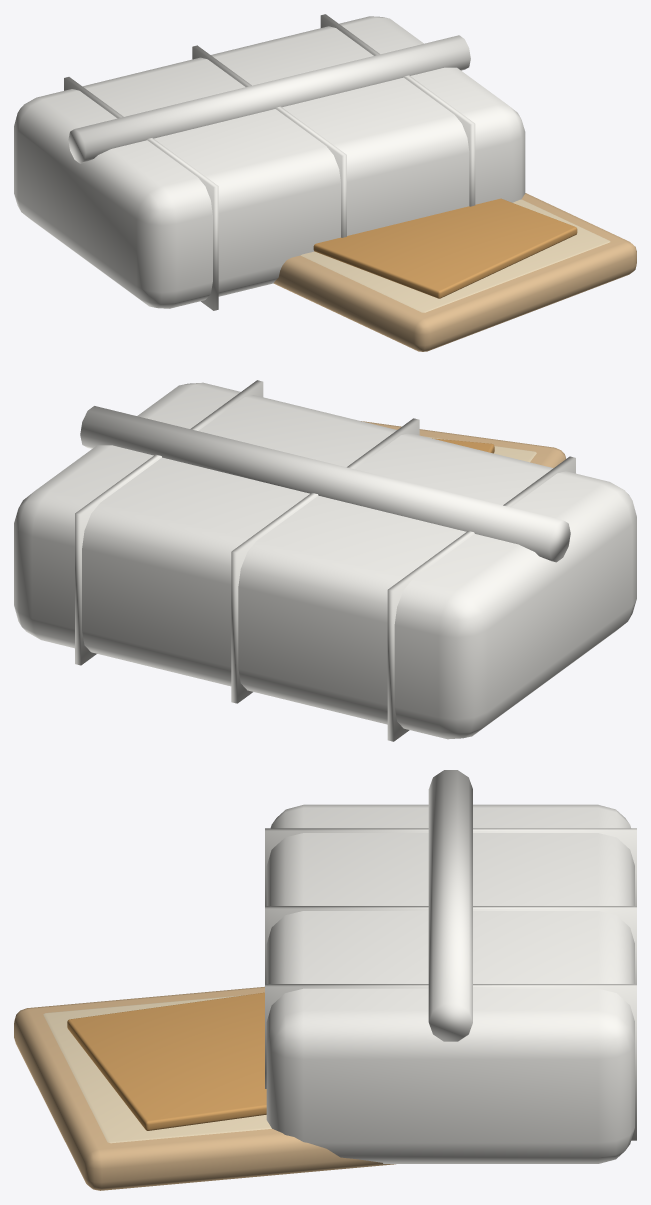
File: SM_Pinnekjott.glb
The picture shows the model from 3 angles, top to bottom: view 1: azimuth 30°, elevation 25°; view 2: azimuth 150°, elevation 25°; view 3: azimuth 270°, elevation 25°; orthographic projection. The views are drawn at different scales.
Parts seen in each view (by area): view 1: SM_Pinnekjott; view 2: SM_Pinnekjott; view 3: SM_Pinnekjott.
Boxes of the visible parts, bbox=[...] form: SM_Pinnekjott: bbox=[14, 14, 636, 351]; SM_Pinnekjott: bbox=[14, 380, 636, 741]; SM_Pinnekjott: bbox=[14, 770, 636, 1190].
Size of the model in its own units: 0.1624 by 0.0522 by 0.1691.
